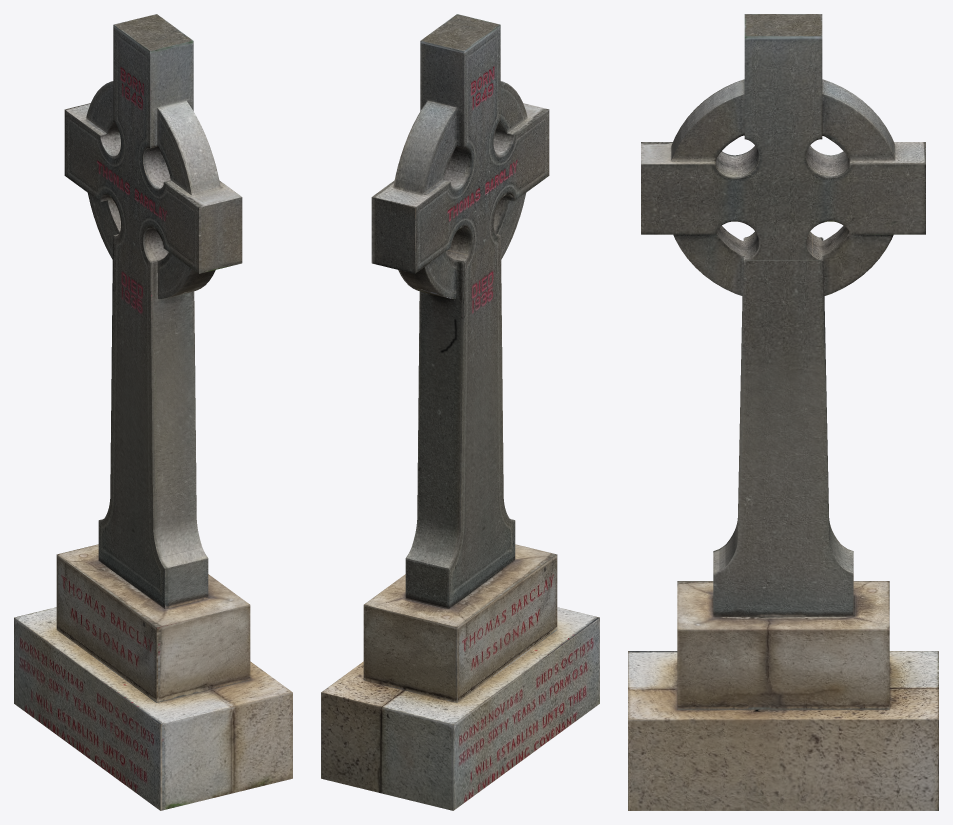
File: Barclay.glb
The picture shows the model from 3 angles, left to right: view 1: azimuth 30°, elevation 25°; view 2: azimuth 150°, elevation 25°; view 3: azimuth 270°, elevation 25°; orthographic projection. The views are drawn at different scales.
Visible parts, largest first — view 1: 01_Simp_Cube.008; view 2: 01_Simp_Cube.008; view 3: 01_Simp_Cube.008.
Boxes of the visible parts, left/top/right/bottom form: 01_Simp_Cube.008: left=14, top=14, right=292, bottom=810; 01_Simp_Cube.008: left=321, top=14, right=599, bottom=810; 01_Simp_Cube.008: left=628, top=14, right=938, bottom=810.
Size of the model in its own units: 6.6 by 33.76 by 12.65.
Materials: 1 (1 with a texture image).
